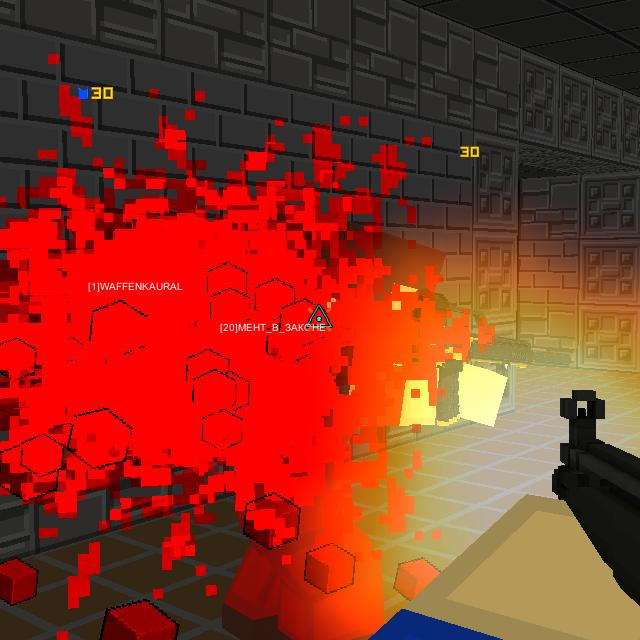enemy: (213, 201, 514, 640)
